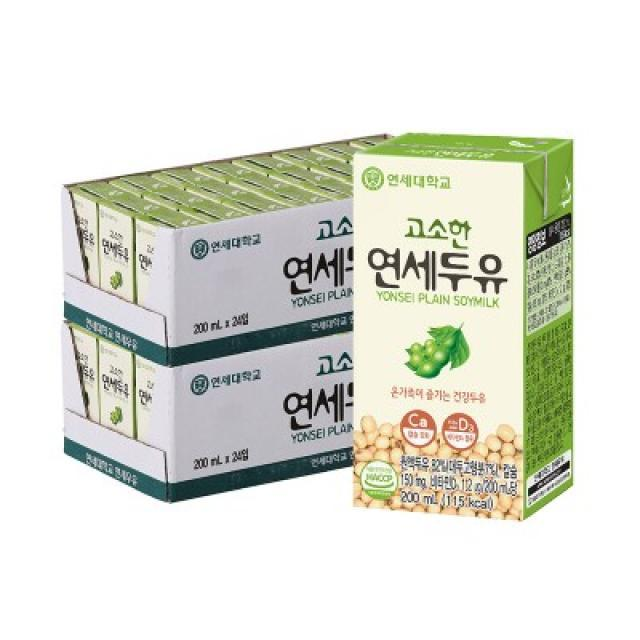Tetra: (352, 121, 574, 526)
